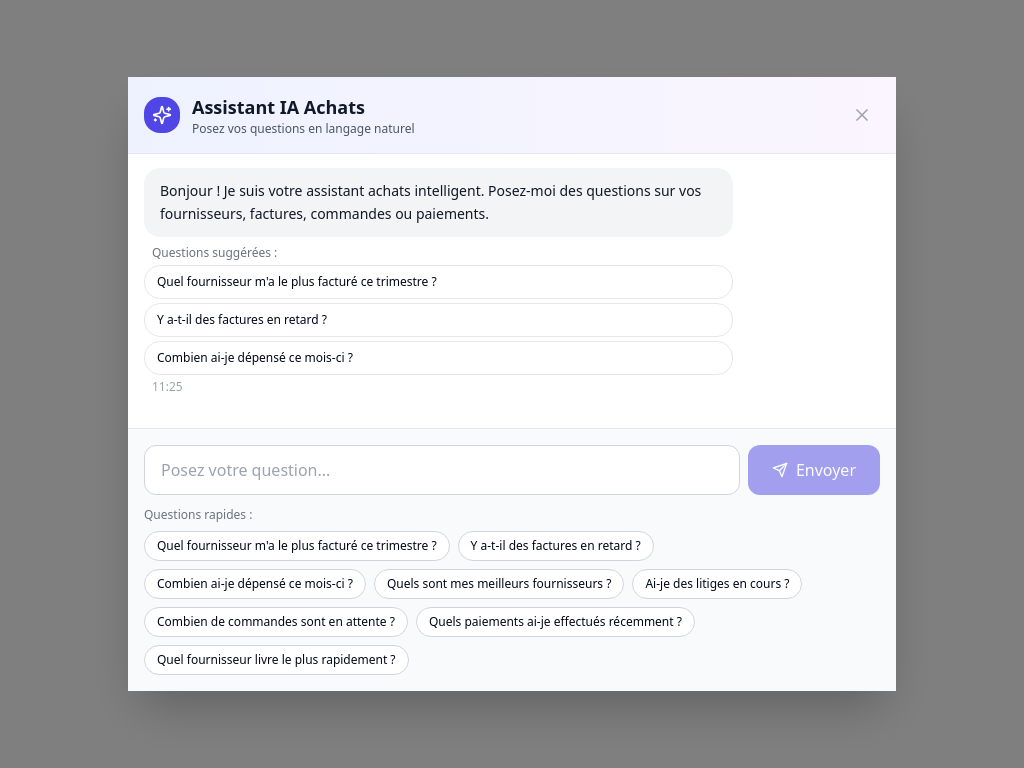
Test: PurchaseAIAssistant › should handle API error
Type "Question" into the field with placeholder "Posez votre question...". click: (442, 470)
box: 144,445 -> 740,495
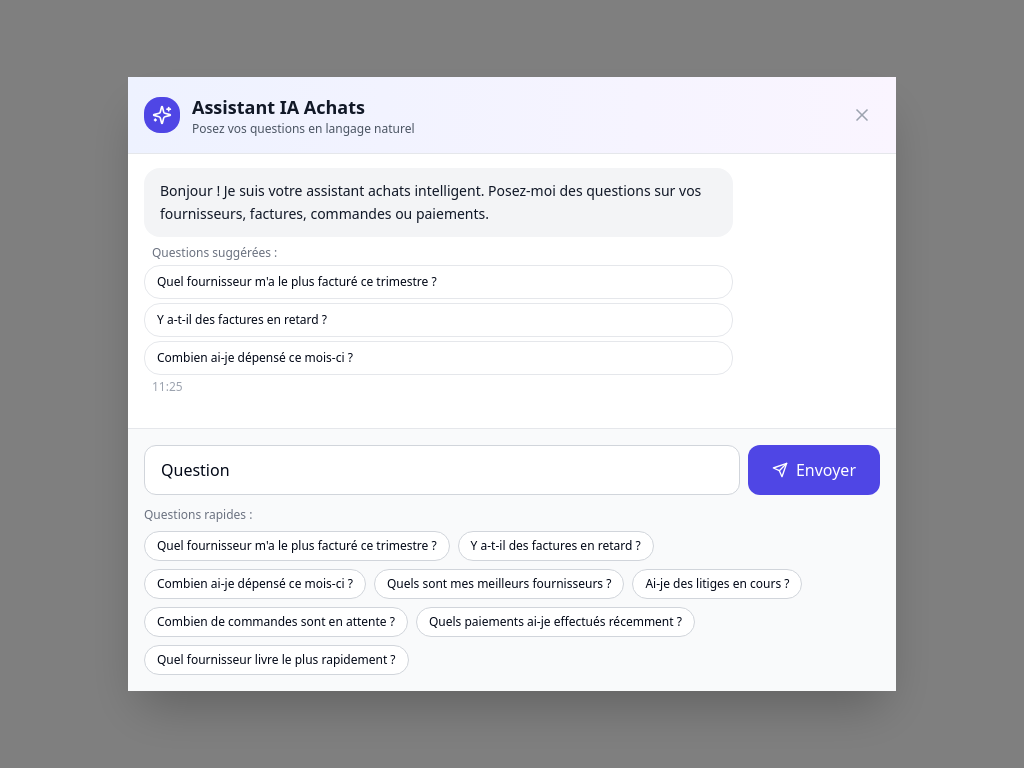
Click the button "Envoyer". click: (814, 470)
box: 748,445 -> 880,495
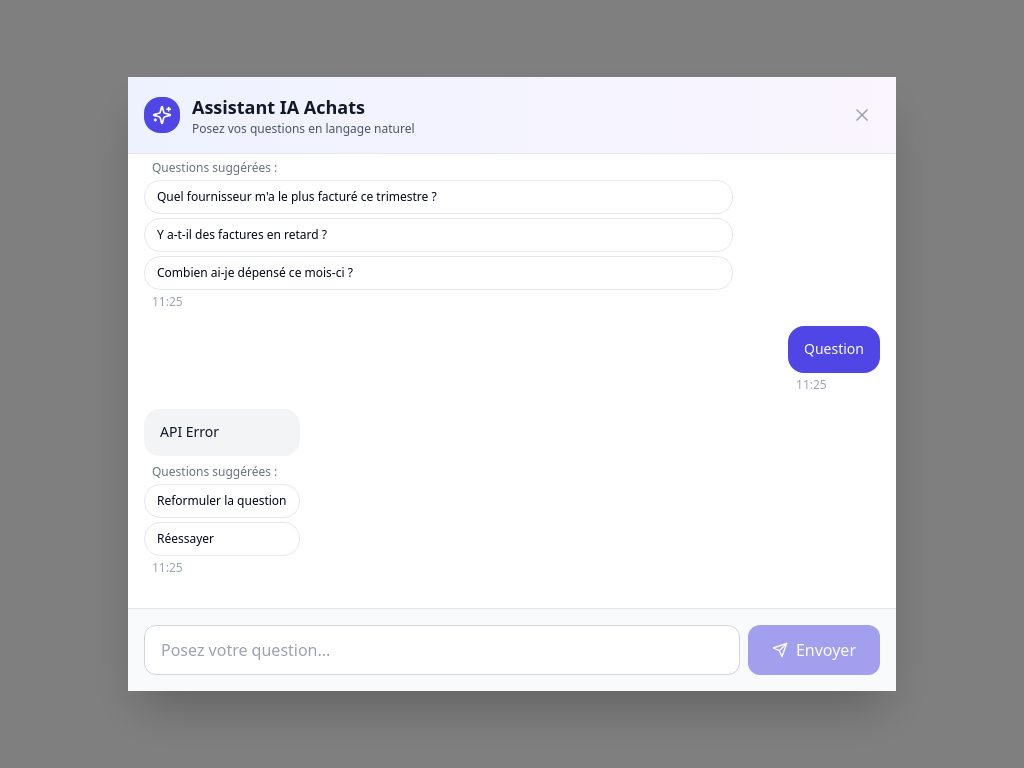
Expected: the text "API Error" is shown, 160,422 -> 219,441
